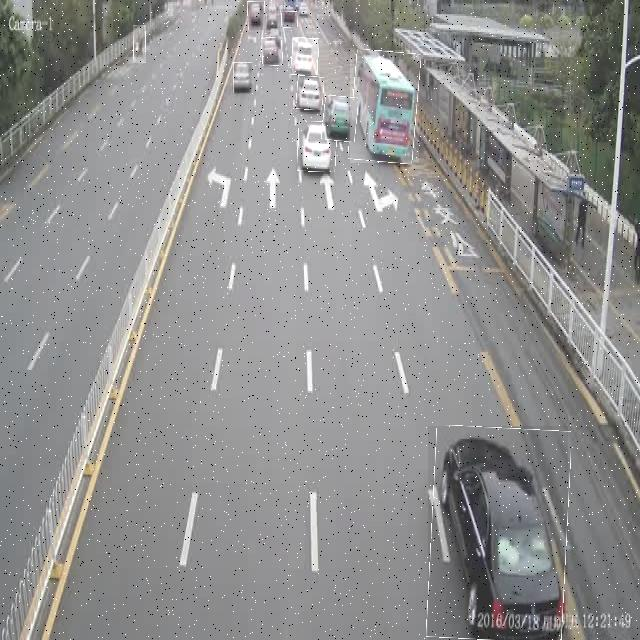Bus: (350, 50, 419, 163)
Car: (428, 426, 568, 640), (298, 122, 336, 172), (322, 96, 357, 142), (296, 75, 324, 110), (292, 38, 318, 75), (262, 37, 283, 66), (233, 62, 252, 93), (248, 1, 265, 30), (266, 14, 282, 36), (282, 12, 298, 28)
Motorcycle: (133, 25, 146, 63)
